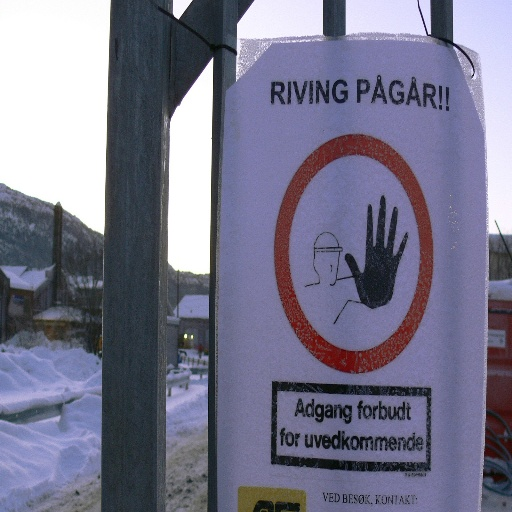hand: (344, 194, 411, 319)
